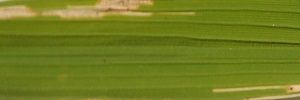RiceBacterialBlight: (1, 1, 196, 21), (212, 85, 300, 100)
